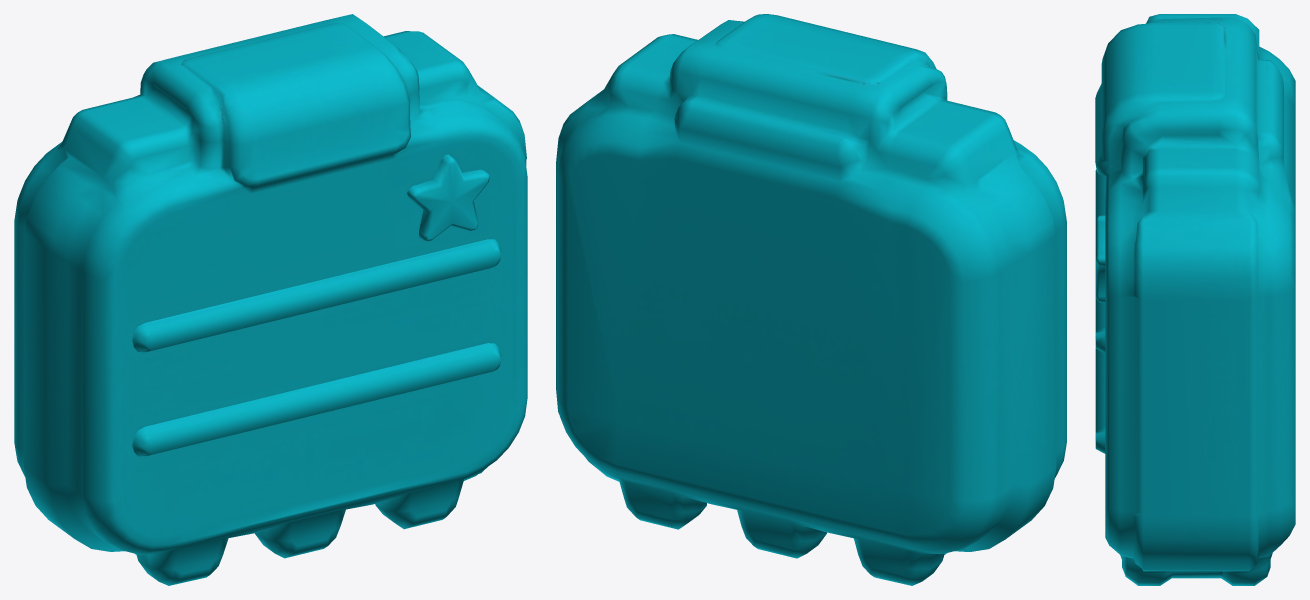
The model's file is Weapon_Gon_Magazine.glb.
3 views of the same model, side by side, from view 1: azimuth 30°, elevation 25°; view 2: azimuth 150°, elevation 25°; view 3: azimuth 270°, elevation 25° (orthographic). The views are drawn at different scales.
Visible parts, largest first — view 1: tripo_node_2326bff7-4690-4891-99c4-bdc55979e6f2; view 2: tripo_node_2326bff7-4690-4891-99c4-bdc55979e6f2; view 3: tripo_node_2326bff7-4690-4891-99c4-bdc55979e6f2.
Boxes of the visible parts, x1,y1,x2,y2 form: tripo_node_2326bff7-4690-4891-99c4-bdc55979e6f2: (14, 14, 527, 585); tripo_node_2326bff7-4690-4891-99c4-bdc55979e6f2: (556, 14, 1066, 585); tripo_node_2326bff7-4690-4891-99c4-bdc55979e6f2: (1095, 14, 1295, 585).
Bounding box in the file's own units: 0.9995 × 0.9956 × 0.3901.
Materials: 1 (1 with a texture image).
